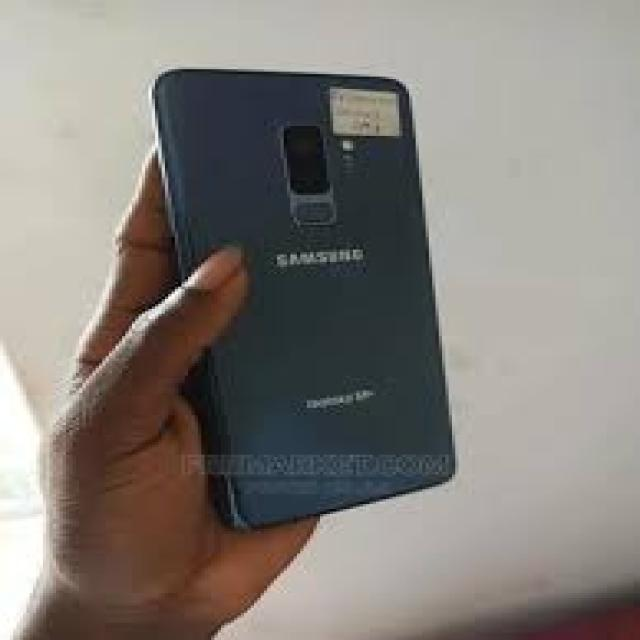mobile phone: (145, 64, 459, 532)
